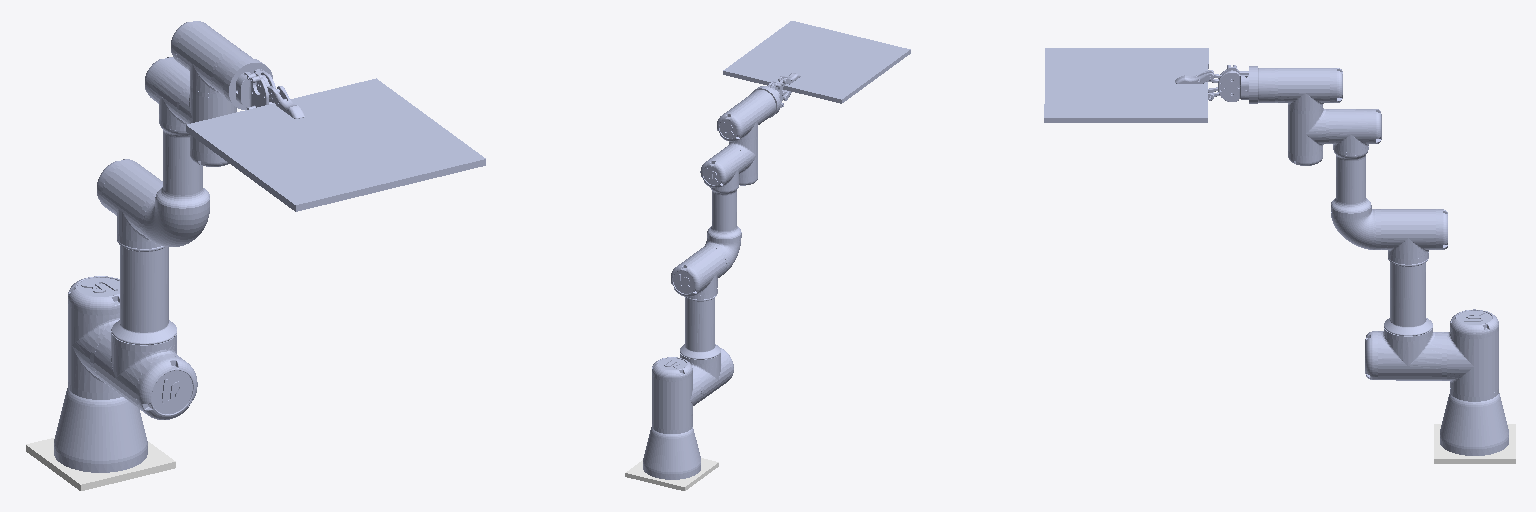
The robot description file, URDF, robot "ur_assemble":
<?xml version="1.0" encoding="utf-8"?>
<!-- This URDF was automatically created by SolidWorks to URDF Exporter! Originally created by [author] ([email redacted]) 
     Commit Version: 1.6.0-1-g15f4949  Build Version: 1.6.7594.29634
     For more information, please see http://wiki.ros.org/sw_urdf_exporter -->
<robot
  name="ur_assemble">
  <link
    name="base_link">
    <inertial>
      <origin
        xyz="8.32667268468867E-17 1.38777878078145E-17 0.005"
        rpy="0 0 0" />
      <mass
        value="0.219247824581995" />
      <inertia
        ixx="0.000423438763070488"
        ixy="-9.48676900924816E-20"
        ixz="-4.2716271407484E-21"
        iyy="0.000423438763070488"
        iyz="2.1514229015648E-21"
        izz="0.000843223395731276" />
    </inertial>
    <visual>
      <origin
        xyz="0 0 0"
        rpy="0 0 0" />
      <geometry>
        <mesh
          filename="package://ur_assemble/meshes/base_link.STL" />
      </geometry>
      <material
        name="">
        <color
          rgba="1 1 1 1" />
      </material>
    </visual>
    <collision>
      <origin
        xyz="0 0 0"
        rpy="0 0 0" />
      <geometry>
        <mesh
          filename="package://ur_assemble/meshes/base_link.STL" />
      </geometry>
    </collision>
  </link>
  <link
    name="Link1">
    <inertial>
      <origin
        xyz="-2.52956151736428E-05 -0.00245177955062234 -0.00490841561649265"
        rpy="0 0 0" />
      <mass
        value="1.88855439563382" />
      <inertia
        ixx="0.0032160783555668"
        ixy="-1.14070661776024E-06"
        ixz="2.00684997098492E-07"
        iyy="0.00310323515147879"
        iyz="1.93435749891652E-05"
        izz="0.00271016566888333" />
    </inertial>
    <visual>
      <origin
        xyz="0 0 0"
        rpy="0 0 0" />
      <geometry>
        <mesh
          filename="package://ur_assemble/meshes/Link1.STL" />
      </geometry>
      <material
        name="">
        <color
          rgba="0.792156862745098 0.819607843137255 0.933333333333333 1" />
      </material>
    </visual>
    <collision>
      <origin
        xyz="0 0 0"
        rpy="0 0 0" />
      <geometry>
        <mesh
          filename="package://ur_assemble/meshes/Link1.STL" />
      </geometry>
    </collision>
  </link>
  <joint
    name="joint1"
    type="continuous">
    <origin
      xyz="0 0 0.1208"
      rpy="0 0 0" />
    <parent
      link="base_link" />
    <child
      link="Link1" />
    <axis
      xyz="0 0 1" />
    <limit
      lower="-3.14"
      upper="3.14"
      effort="0"
      velocity="0" />
  </joint>
  <link
    name="Link2">
    <inertial>
      <origin
        xyz="-0.000612457400570615 0.105786342217248 0.0601133658848557"
        rpy="0 0 0" />
      <mass
        value="2.02531173355482" />
      <inertia
        ixx="0.00366894705899223"
        ixy="2.08057071059272E-07"
        ixz="5.22850116717994E-06"
        iyy="0.00248840801189944"
        iyz="-2.43893591412976E-05"
        izz="0.00292078954249232" />
    </inertial>
    <visual>
      <origin
        xyz="0 0 0"
        rpy="0 0 0" />
      <geometry>
        <mesh
          filename="package://ur_assemble/meshes/Link2.STL" />
      </geometry>
      <material
        name="">
        <color
          rgba="0.792156862745098 0.819607843137255 0.933333333333333 1" />
      </material>
    </visual>
    <collision>
      <origin
        xyz="0 0 0"
        rpy="0 0 0" />
      <geometry>
        <mesh
          filename="package://ur_assemble/meshes/Link2.STL" />
      </geometry>
    </collision>
  </link>
  <joint
    name="joint2"
    type="continuous">
    <origin
      xyz="-0.00061472948635552 -0.0599968508145105 0.061"
      rpy="1.5707963267949 0 0" />
    <parent
      link="Link1" />
    <child
      link="Link2" />
    <axis
      xyz="-0.0102454914392607 0 0.999947513575172" />
    <limit
      lower="-3.14"
      upper="3.14"
      effort="0"
      velocity="0" />
  </joint>
  <link
    name="Link3">
    <inertial>
      <origin
        xyz="-3.70113915987291E-07 -0.10765309359985 -0.0417481907064808"
        rpy="0 0 0" />
      <mass
        value="0.161545888680788" />
      <inertia
        ixx="0.000212761946688097"
        ixy="4.58366766375711E-09"
        ixz="1.06371324641867E-09"
        iyy="0.000162329801665405"
        iyz="-1.21756457257418E-05"
        izz="0.000216790310127244" />
    </inertial>
    <visual>
      <origin
        xyz="0 0 0"
        rpy="0 0 0" />
      <geometry>
        <mesh
          filename="package://ur_assemble/meshes/Link3.STL" />
      </geometry>
      <material
        name="">
        <color
          rgba="0.792156862745098 0.819607843137255 0.933333333333333 1" />
      </material>
    </visual>
    <collision>
      <origin
        xyz="0 0 0"
        rpy="0 0 0" />
      <geometry>
        <mesh
          filename="package://ur_assemble/meshes/Link3.STL" />
      </geometry>
    </collision>
  </link>
  <joint
    name="joint3"
    type="continuous">
    <origin
      xyz="-0.0006249749779694 0.255000000000001 0.120996798328082"
      rpy="3.14159265358979 0 0" />
    <parent
      link="Link2" />
    <child
      link="Link3" />
    <axis
      xyz="0 0 1" />
    <limit
      lower="-3.14"
      upper="3.14"
      effort="0"
      velocity="0" />
  </joint>
  <link
    name="Link4">
    <inertial>
      <origin
        xyz="-6.62715504784472E-06 -0.0465516251328087 -0.0464111094351162"
        rpy="0 0 0" />
      <mass
        value="0.831316590882407" />
      <inertia
        ixx="0.00075395204026732"
        ixy="1.96982462488835E-09"
        ixz="-9.17245548215189E-08"
        iyy="0.000629448055206935"
        iyz="-3.11360381951986E-06"
        izz="0.00058578973736403" />
    </inertial>
    <visual>
      <origin
        xyz="0 0 0"
        rpy="0 0 0" />
      <geometry>
        <mesh
          filename="package://ur_assemble/meshes/Link4.STL" />
      </geometry>
      <material
        name="">
        <color
          rgba="0.792156862745098 0.819607843137255 0.933333333333333 1" />
      </material>
    </visual>
    <collision>
      <origin
        xyz="0 0 0"
        rpy="0 0 0" />
      <geometry>
        <mesh
          filename="package://ur_assemble/meshes/Link4.STL" />
      </geometry>
    </collision>
  </link>
  <joint
    name="joint4"
    type="continuous">
    <origin
      xyz="0 -0.20800000000049 -0.090499999999995"
      rpy="0 0 0" />
    <parent
      link="Link3" />
    <child
      link="Link4" />
    <axis
      xyz="0 0 1" />
    <limit
      lower="-3.14"
      upper="3.14"
      effort="0"
      velocity="0" />
  </joint>
  <link
    name="Link5">
    <inertial>
      <origin
        xyz="6.62715440016837E-06 0.00891110943511647 0.000551625132807709"
        rpy="0 0 0" />
      <mass
        value="0.831316590882407" />
      <inertia
        ixx="0.00075395204026732"
        ixy="-9.17245548216815E-08"
        ixz="1.96982462488813E-09"
        iyy="0.00058578973736403"
        iyz="-3.11360381951986E-06"
        izz="0.000629448055206935" />
    </inertial>
    <visual>
      <origin
        xyz="0 0 0"
        rpy="0 0 0" />
      <geometry>
        <mesh
          filename="package://ur_assemble/meshes/Link5.STL" />
      </geometry>
      <material
        name="">
        <color
          rgba="0.792156862745098 0.819607843137255 0.933333333333333 1" />
      </material>
    </visual>
    <collision>
      <origin
        xyz="0 0 0"
        rpy="0 0 0" />
      <geometry>
        <mesh
          filename="package://ur_assemble/meshes/Link5.STL" />
      </geometry>
    </collision>
  </link>
  <joint
    name="joint5"
    type="continuous">
    <origin
      xyz="0 -0.0460000000000005 -0.0374999999999996"
      rpy="-1.5707963267949 0 3.14159265358979" />
    <parent
      link="Link4" />
    <child
      link="Link5" />
    <axis
      xyz="0 0 -1" />
    <limit
      lower="-3.14"
      upper="3.14"
      effort="0"
      velocity="0" />
  </joint>
  <link
    name="Link6">
    <inertial>
      <origin
        xyz="0.00338208078163968 0.00126881420824054 0.201496923104151"
        rpy="0 0 0" />
      <mass
        value="1.02118628960713" />
      <inertia
        ixx="0.00680435338219074"
        ixy="1.11651969233071E-07"
        ixz="5.98807833064856E-08"
        iyy="0.0135383535017373"
        iyz="1.12929801181719E-07"
        izz="0.00680136411104888" />
    </inertial>
    <visual>
      <origin
        xyz="0 0 0"
        rpy="0 0 0" />
      <geometry>
        <mesh
          filename="package://ur_assemble/meshes/Link6.STL" />
      </geometry>
      <material
        name="">
        <color
          rgba="0.792156862745098 0.819607843137255 0.933333333333333 1" />
      </material>
    </visual>
    <collision>
      <origin
        xyz="0 0 0"
        rpy="0 0 0" />
      <geometry>
        <mesh
          filename="package://ur_assemble/meshes/Link6.STL" />
      </geometry>
    </collision>
  </link> -->
  <joint
    name="joint6"
    type="continuous">
    <origin
      xyz="6.30860866707161E-05 0.102999980680325 0.0374999999995083"
      rpy="1.5707963267949 0 3.14159265358979" />
    <parent
      link="Link5" />
    <child
      link="Link6" />
    <axis
      xyz="0.000612486285234082 0 -0.999999812430257" />
    <limit
      lower="-3.14"
      upper="3.14"
      effort="0"
      velocity="0" />
  </joint>
</robot>

--- Render facts (derived) ---
Views: 3 orthographic renders of the robot side by side, from view 1: azimuth 30°, elevation 25°; view 2: azimuth 150°, elevation 25°; view 3: azimuth 270°, elevation 25°.
Model ur_assemble with 7 links and 6 joints (6 continuous), rooted at base_link, posed every joint at zero.
Links seen in each view (by area): view 1: Link6, Link2, Link1, Link3, Link4, base_link; view 2: Link6, Link1, Link2, Link3, Link4, base_link; view 3: Link6, Link2, Link1, Link3, Link4, base_link.
Boxes of the visible links, box(x1,y1,x2,y2) form: Link6: box(186, 59, 485, 211); Link2: box(90, 159, 197, 419); Link1: box(54, 276, 147, 472); Link3: box(143, 57, 209, 246); Link4: box(171, 21, 252, 166); base_link: box(26, 438, 175, 490); Link6: box(723, 21, 910, 117); Link1: box(643, 357, 701, 479); Link2: box(671, 244, 733, 402); Link3: box(700, 145, 747, 270); Link4: box(717, 90, 775, 185); base_link: box(625, 458, 718, 490); Link6: box(1044, 48, 1257, 122); Link2: box(1365, 209, 1447, 380); Link1: box(1440, 309, 1508, 455); Link3: box(1326, 109, 1381, 249); Link4: box(1258, 68, 1342, 165); base_link: box(1434, 424, 1515, 463).
Size in the robot's own frame: 0.3002 by 0.862 by 0.7633 metres.
Meshes: 7 distinct files referenced, 7 mesh visuals loaded (7 binary STL).